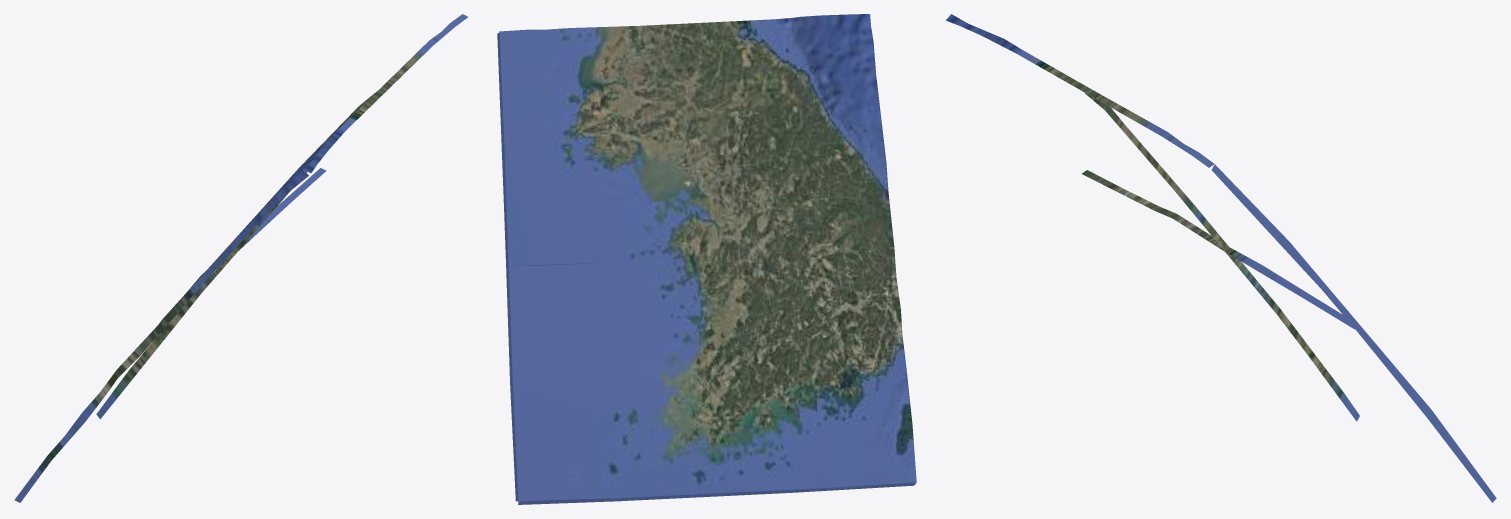
The picture shows the model from 3 angles, left to right: view 1: azimuth 30°, elevation 25°; view 2: azimuth 150°, elevation 25°; view 3: azimuth 270°, elevation 25°; orthographic projection. The views are drawn at different scales.
Bounding box in the file's own units: 633840 × 512825 × 607290.
Materials: 1 (1 with a texture image).
